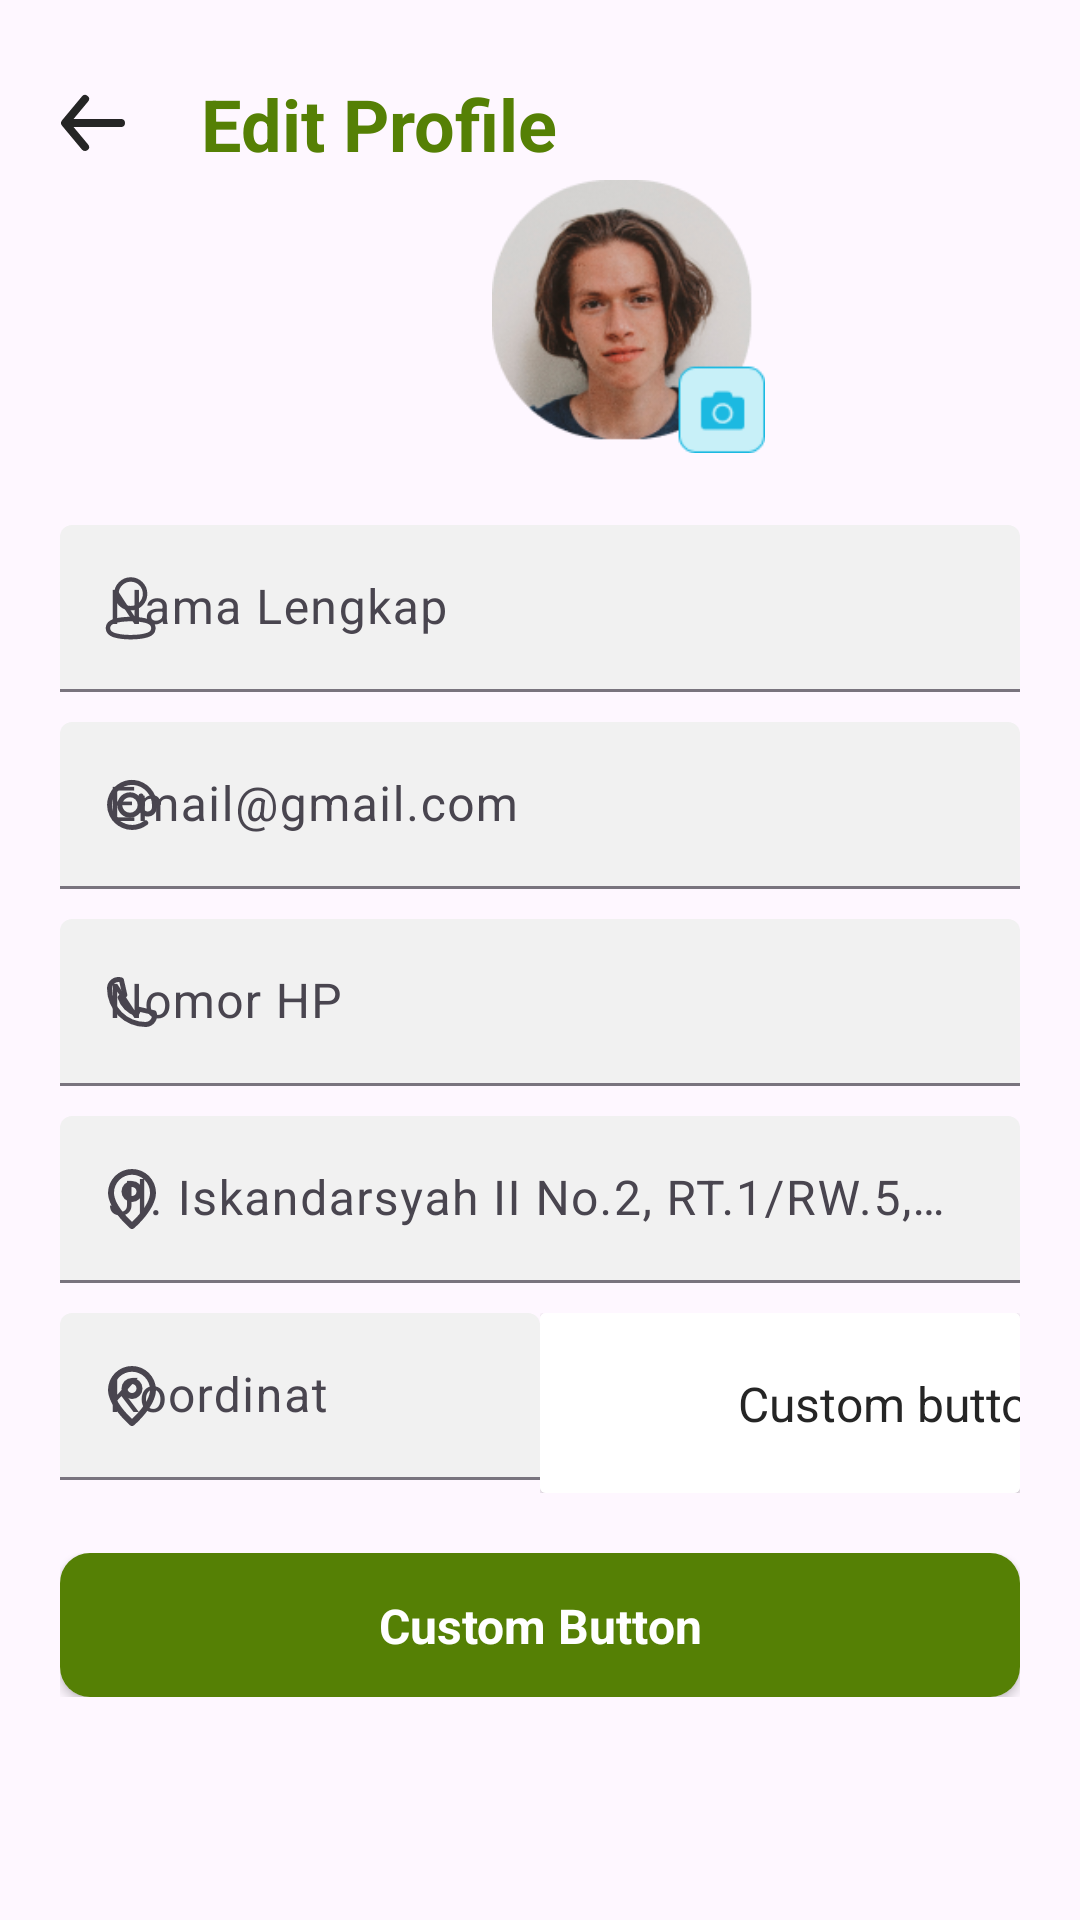

Icon bounding boxes for this 1080x1920 phone screenshot, format (x1, y1, x2, y2):
back: (61, 94, 125, 151)
